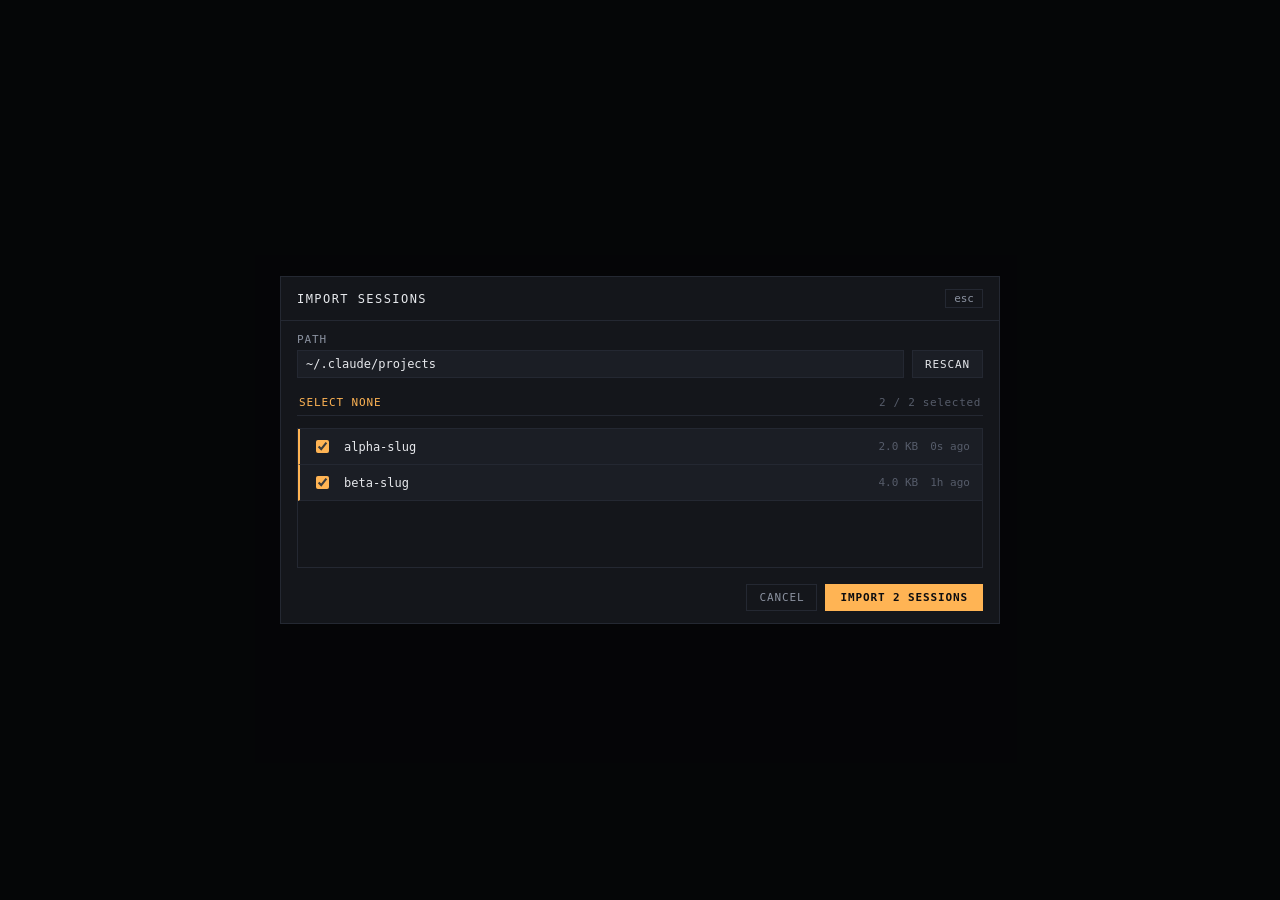
it: ImportDialog (L2.3) › "Select all" toggles to "Select none" and back
Click the button with test id "import-select-all" at (340, 402), box [299,394,382,411]
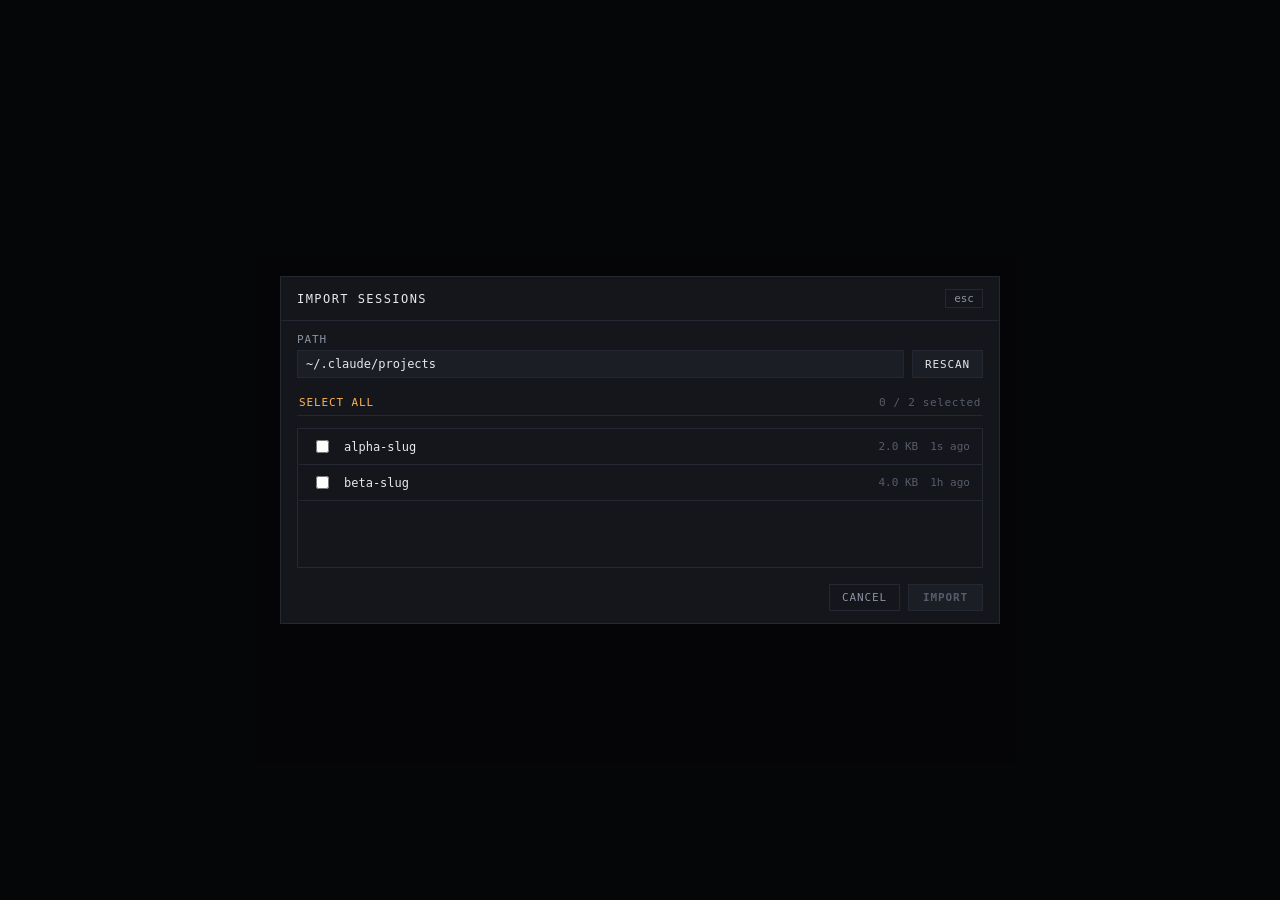
Result: the button with test id "import-select-all" shows "all" at [299,394,374,411]
Result: the checkbox with test id "import-checkbox-sess-aaaa" is not checked at [316,440,329,453]
